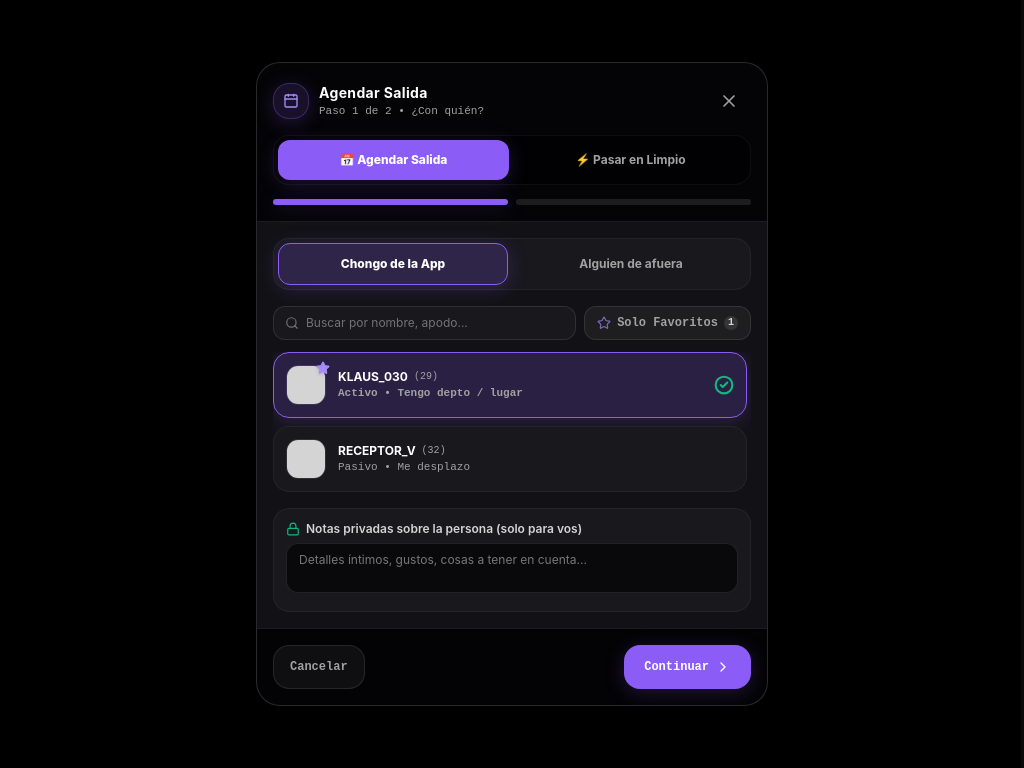
Scenario: CreateDiaryEntryModal — Flujo Adaptativo Bifurcado en 2 Pasos › debe permitir filtrar por 'Solo Favoritos' en el selector de perfiles
The width and height of the screenshot is (1024, 768).
Expected: the text "KLAUS_030" is shown, [338,369,408,385]
Expected: the text "RECEPTOR_V" is shown, [338,443,416,459]
What coordinates should you click on to do the following:
click the button with test id "diary-modal-toggle-only-favorites"
I would click on:
 (668, 323)
Its box is [584,306,751,340].
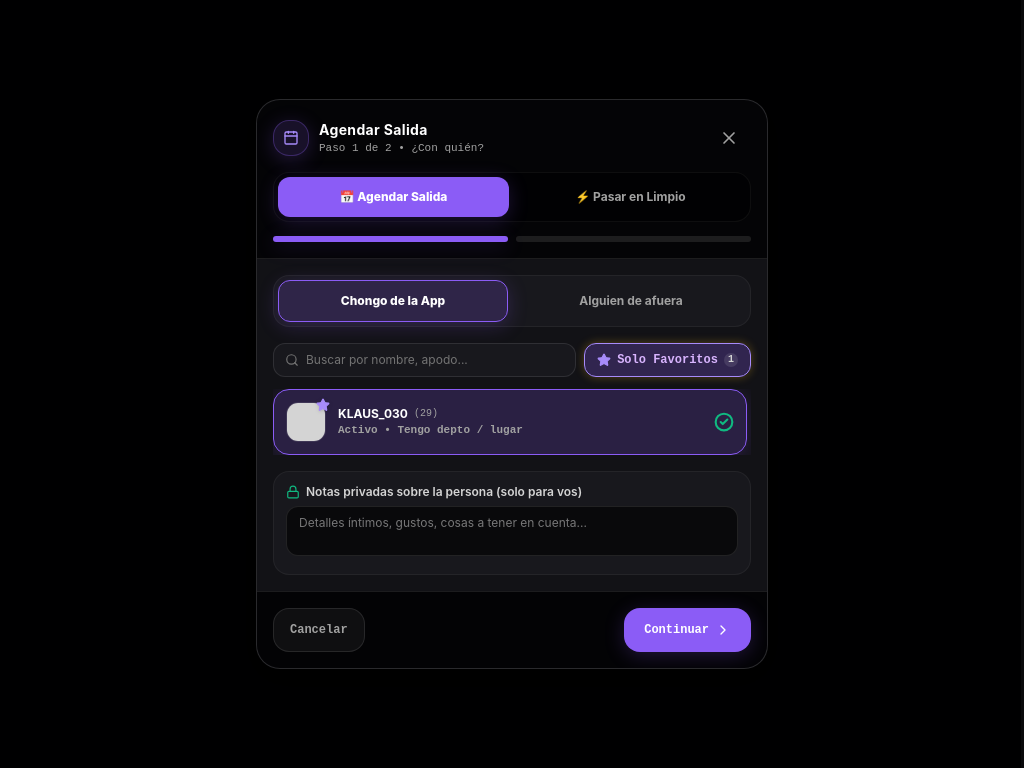
Expected: the text "KLAUS_030" is shown, [338,406,408,422]
Now the button "RECEPTOR_V" is gone
